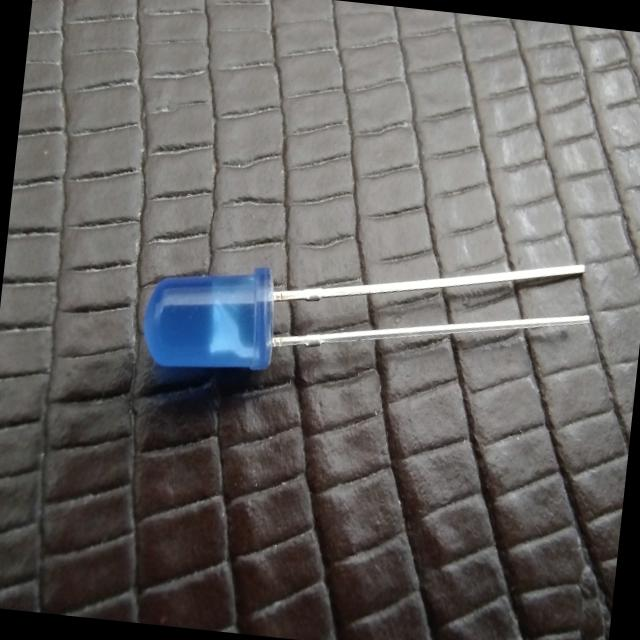blue_led: (138, 253, 281, 379)
